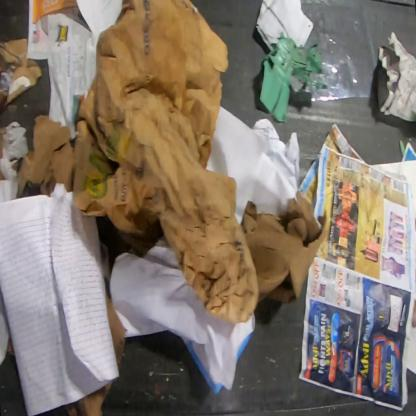cardboard: (241, 188, 326, 305), (12, 114, 75, 199), (0, 37, 43, 112), (63, 379, 114, 416), (107, 292, 129, 371), (0, 126, 7, 159)
rigid_plastic: (258, 31, 329, 124)
soft_plastic: (300, 0, 378, 102)
